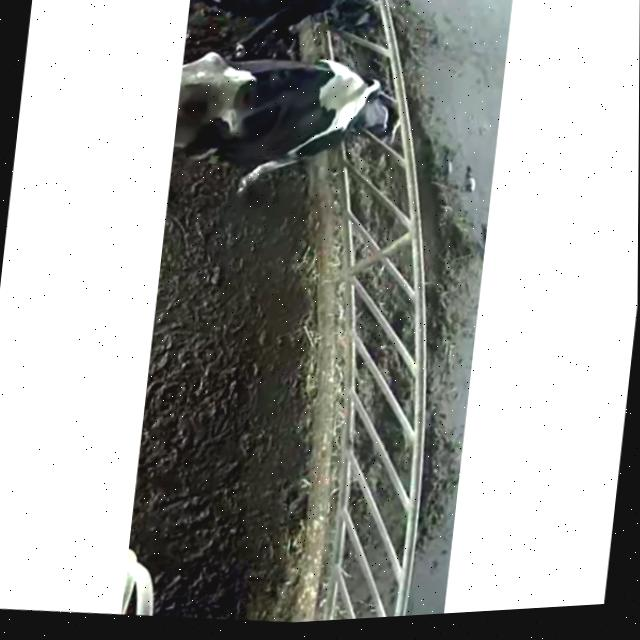eat: (287, 46, 465, 169), (266, 0, 438, 32)
